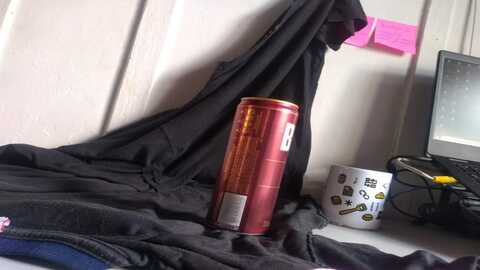duplo_malte: (197, 94, 303, 246)
